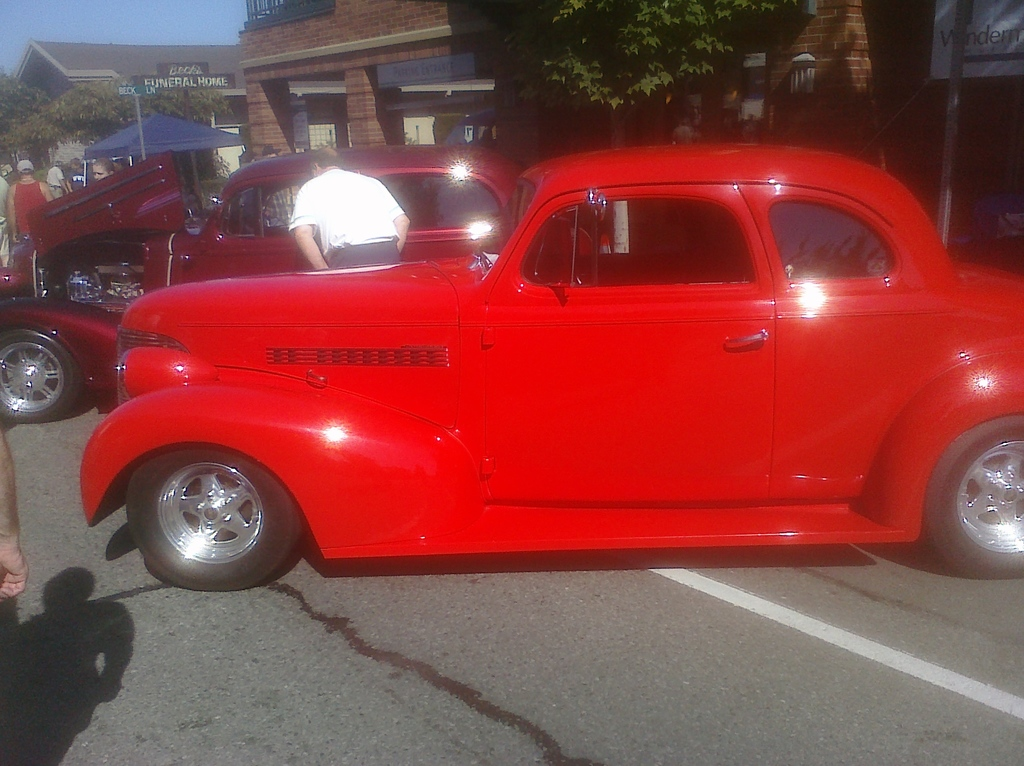Car: (84, 144, 1023, 584), (0, 154, 530, 429)
